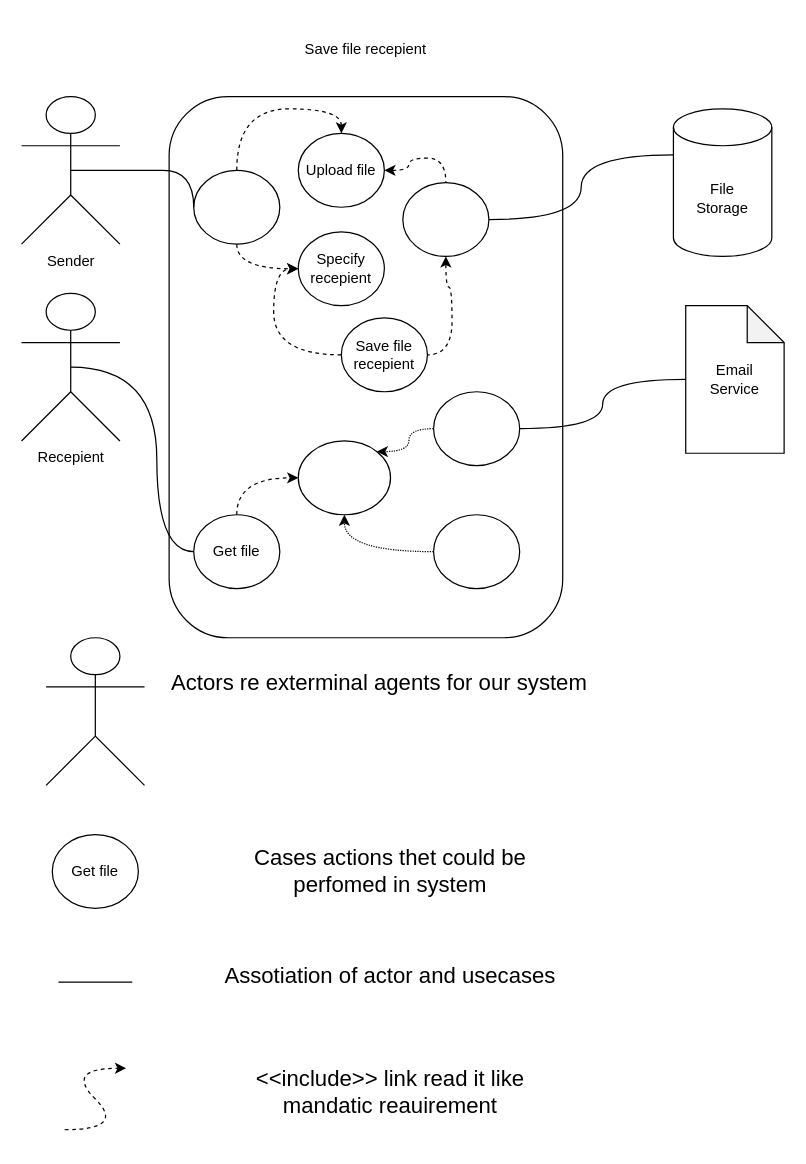
The diagram is 806 pixels wide and 1164 high, and some of its shapes have lost their labels. The centre of each missing label's shape, as x and y in pixels:
"Get available" goes at point (344, 477).
"Get file list" goes at point (476, 551).
"Send email" goes at point (476, 428).
"Send file" goes at point (236, 206).
"Store file" goes at point (445, 218).
